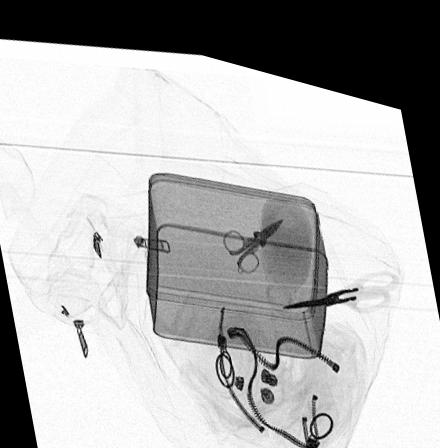Scissors: (282, 247, 400, 295), (222, 201, 285, 262)
